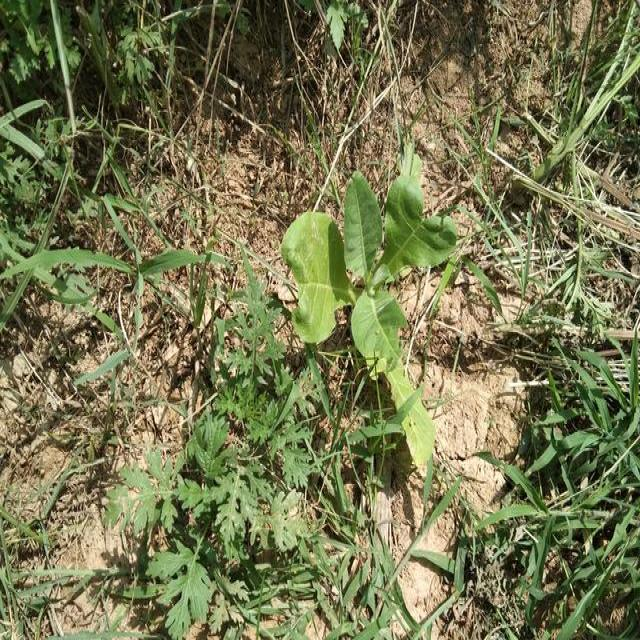crop: (274, 176, 438, 438)
